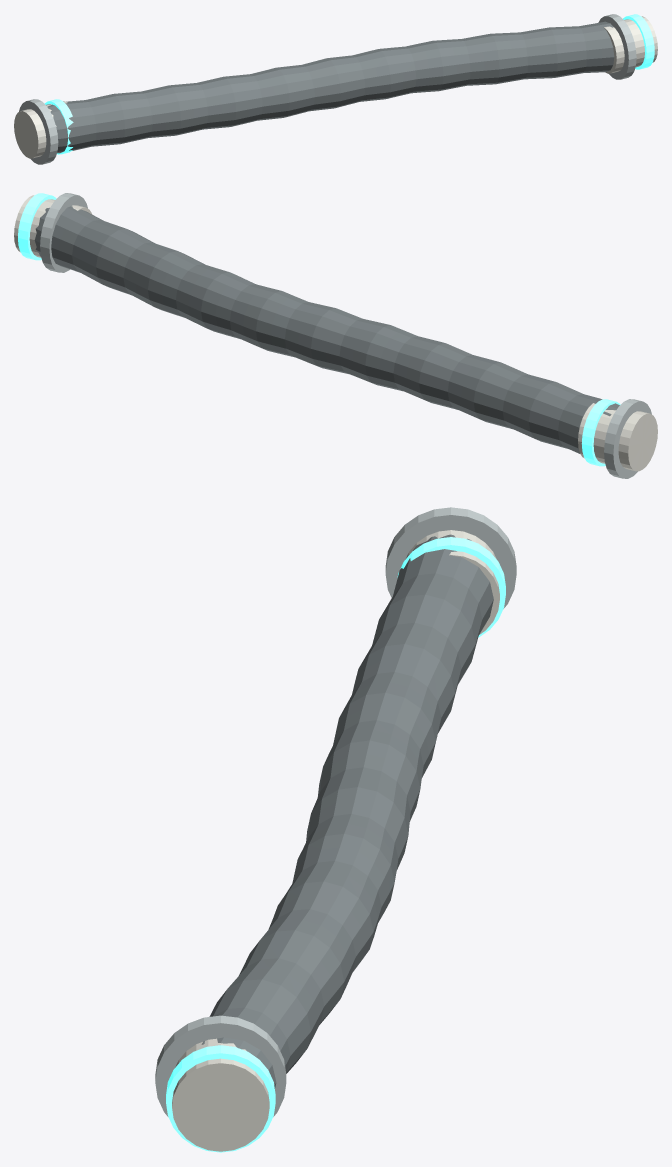
File: s7-i03-hose-bend-15.glb
The picture shows the model from 3 angles, top to bottom: view 1: azimuth 30°, elevation 25°; view 2: azimuth 150°, elevation 25°; view 3: azimuth 270°, elevation 25°; orthographic projection. The views are drawn at different scales.
Parts seen in each view (by area): view 1: 000_actual_curved_hose_swept_3d, 001_end_0_sealing_socket, 004_end_1_sealing_socket, 003_end_0_locking_collar, 006_end_1_locking_collar, 005_end_1_cyan_snap_seal, 002_end_0_cyan_snap_seal; view 2: 000_actual_curved_hose_swept_3d, 001_end_0_sealing_socket, 003_end_0_locking_collar, 006_end_1_locking_collar, 005_end_1_cyan_snap_seal, 002_end_0_cyan_snap_seal, 004_end_1_sealing_socket; view 3: 000_actual_curved_hose_swept_3d, 004_end_1_sealing_socket, 003_end_0_locking_collar, 006_end_1_locking_collar, 005_end_1_cyan_snap_seal, 002_end_0_cyan_snap_seal, 001_end_0_sealing_socket.
Part boxes in pixels (bbox=[...]): 000_actual_curved_hose_swept_3d: bbox=[46, 21, 614, 153]; 001_end_0_sealing_socket: bbox=[14, 101, 67, 158]; 004_end_1_sealing_socket: bbox=[604, 16, 657, 73]; 003_end_0_locking_collar: bbox=[19, 99, 58, 164]; 006_end_1_locking_collar: bbox=[598, 14, 636, 79]; 005_end_1_cyan_snap_seal: bbox=[623, 14, 654, 69]; 002_end_0_cyan_snap_seal: bbox=[44, 99, 73, 154]; 000_actual_curved_hose_swept_3d: bbox=[34, 206, 619, 453]; 001_end_0_sealing_socket: bbox=[578, 403, 657, 471]; 003_end_0_locking_collar: bbox=[604, 399, 651, 478]; 006_end_1_locking_collar: bbox=[40, 193, 87, 272]; 005_end_1_cyan_snap_seal: bbox=[18, 193, 56, 260]; 002_end_0_cyan_snap_seal: bbox=[581, 399, 620, 466]; 004_end_1_sealing_socket: bbox=[14, 195, 92, 257]; 000_actual_curved_hose_swept_3d: bbox=[201, 534, 493, 1088]; 004_end_1_sealing_socket: bbox=[172, 1038, 269, 1151]; 003_end_0_locking_collar: bbox=[385, 507, 516, 608]; 006_end_1_locking_collar: bbox=[155, 1015, 286, 1116]; 005_end_1_cyan_snap_seal: bbox=[166, 1045, 275, 1152]; 002_end_0_cyan_snap_seal: bbox=[397, 537, 505, 637]; 001_end_0_sealing_socket: bbox=[405, 530, 499, 634].
Bounding box in the file's own units: 0.9254 × 0.0935 × 0.2577.
